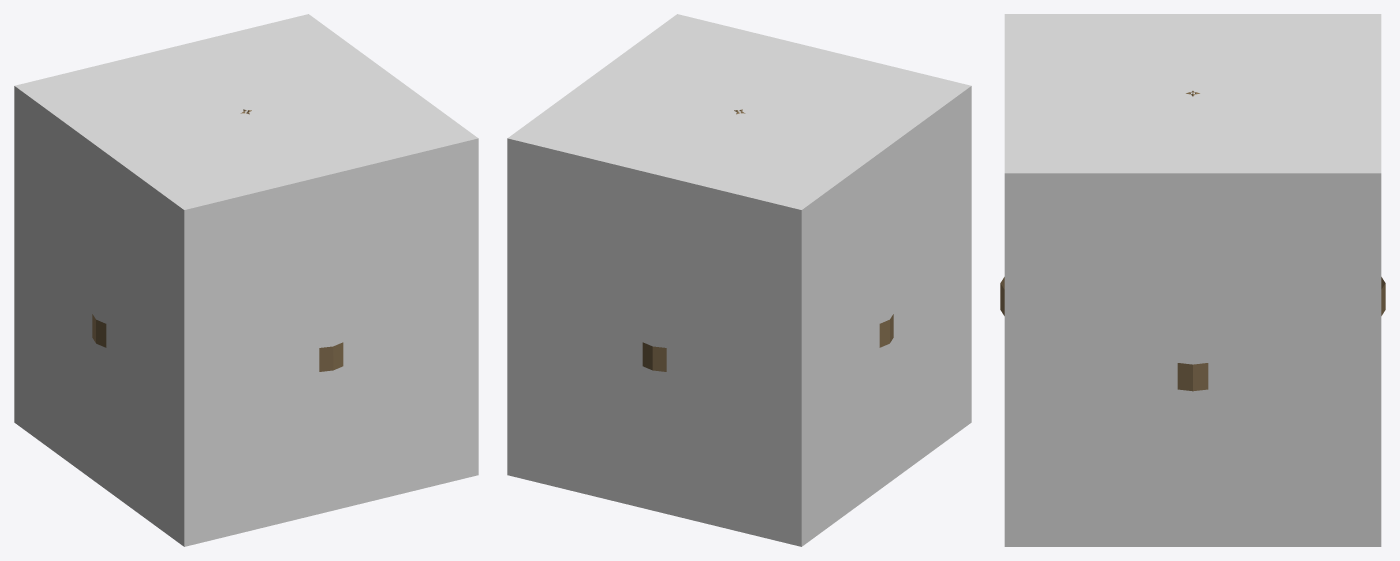
Rendered from JP_Prop_SakeBarrelStraw_A.glb.
3 renders of one model, left to right at view 1: azimuth 30°, elevation 25°; view 2: azimuth 150°, elevation 25°; view 3: azimuth 270°, elevation 25°, orthographic. The views are drawn at different scales.
Visible parts, largest first — view 1: COL_JP_Prop_SakeBarrelStraw_A, JP_Prop_SakeBarrelStraw_A; view 2: COL_JP_Prop_SakeBarrelStraw_A, JP_Prop_SakeBarrelStraw_A; view 3: COL_JP_Prop_SakeBarrelStraw_A, JP_Prop_SakeBarrelStraw_A.
Part boxes in pixels (box(x1,y1,x2,y2)): COL_JP_Prop_SakeBarrelStraw_A: box(14, 14, 478, 546); JP_Prop_SakeBarrelStraw_A: box(92, 109, 343, 371); COL_JP_Prop_SakeBarrelStraw_A: box(507, 14, 971, 546); JP_Prop_SakeBarrelStraw_A: box(642, 109, 893, 371); COL_JP_Prop_SakeBarrelStraw_A: box(1004, 14, 1381, 546); JP_Prop_SakeBarrelStraw_A: box(1000, 91, 1385, 391).
Size of the model in its own units: 0.654 by 0.7031 by 0.654.
3 materials, 3 textured.
